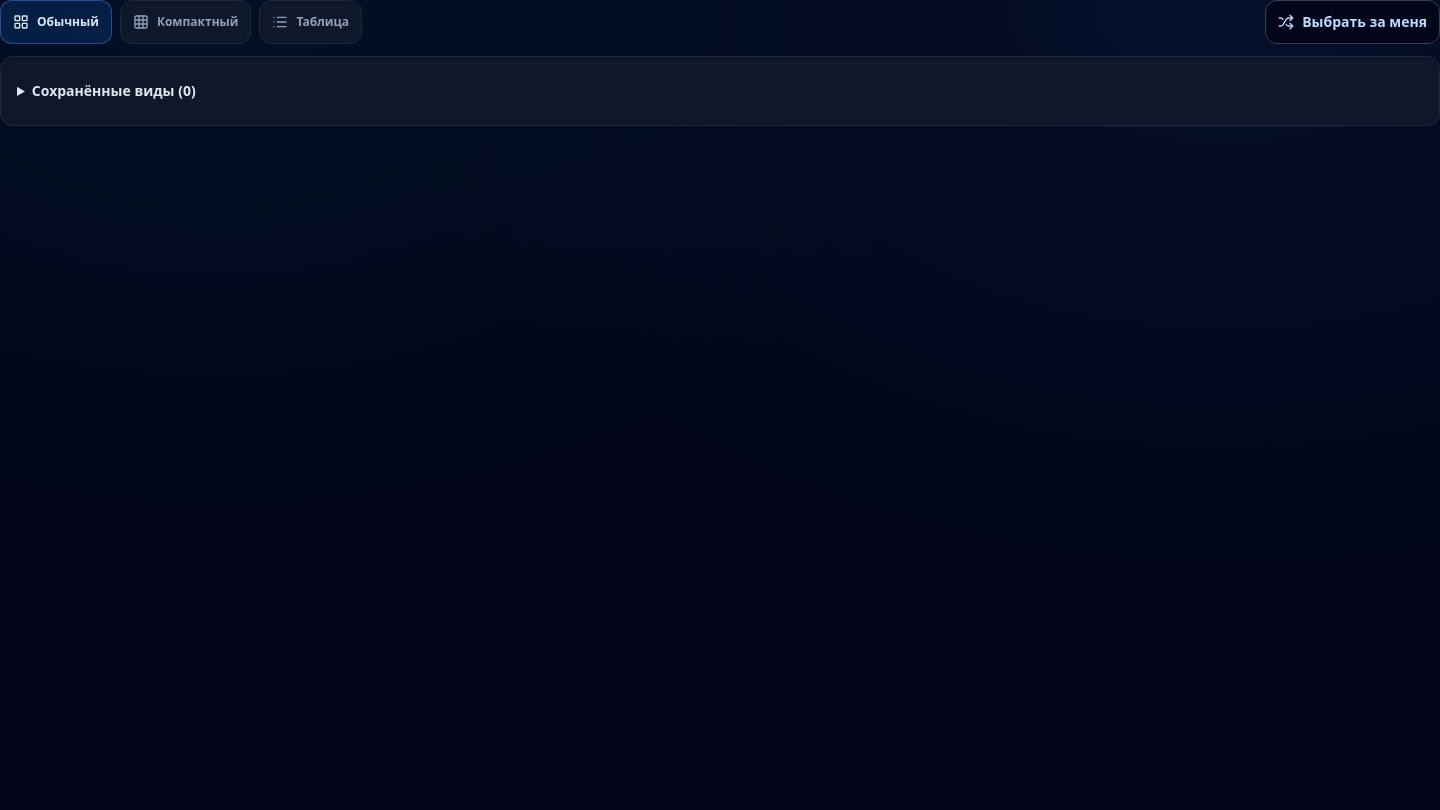
localized cards and non-mutating Library tools › hides the picker in selection mode and disables another pick for a single title
The width and height of the screenshot is (1440, 810).
Click the button "Выбрать за меня" at (1353, 22), box top-left (1265, 0), bottom-right (1439, 44)
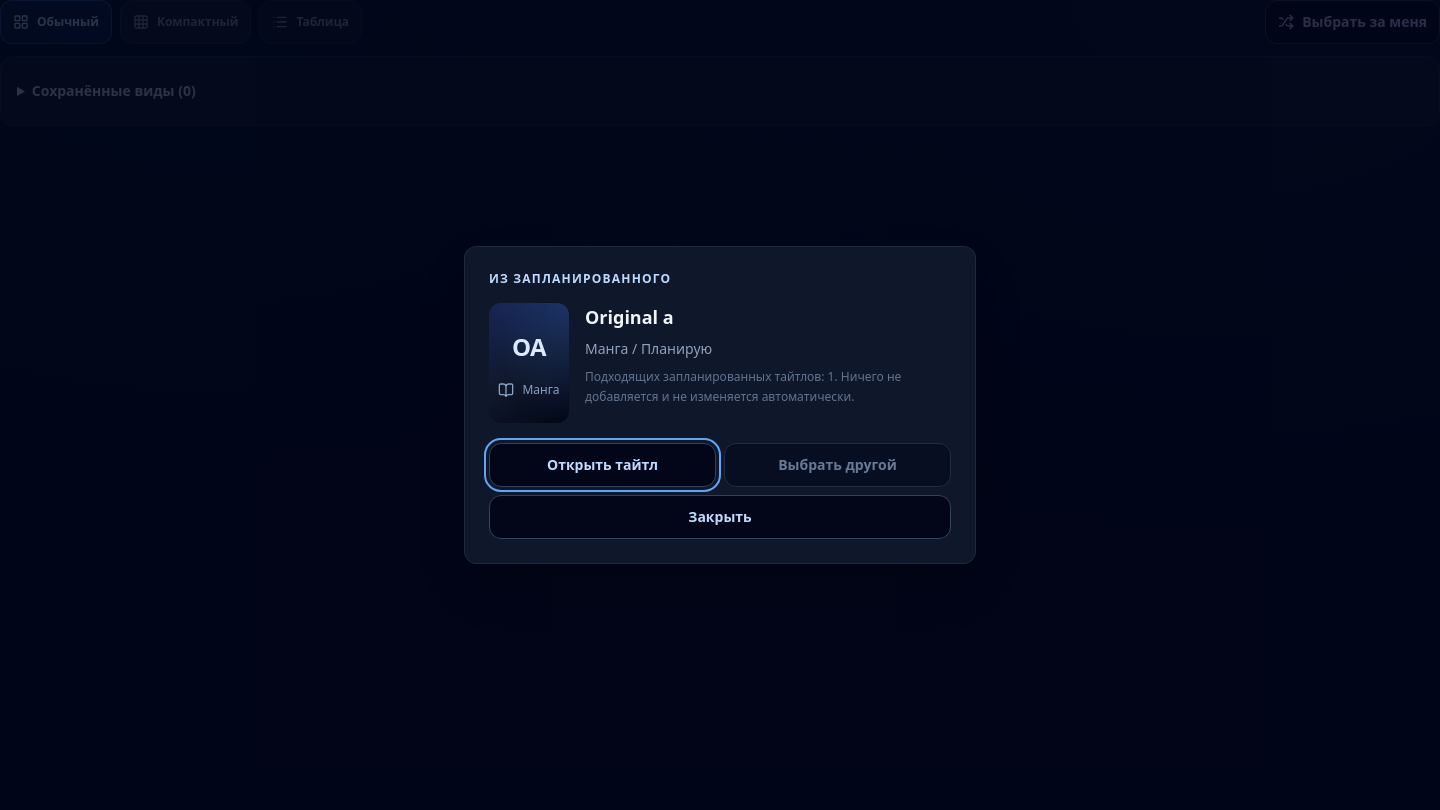
Now the button "Выбрать другой" is disabled, box top-left (724, 443), bottom-right (951, 487)
